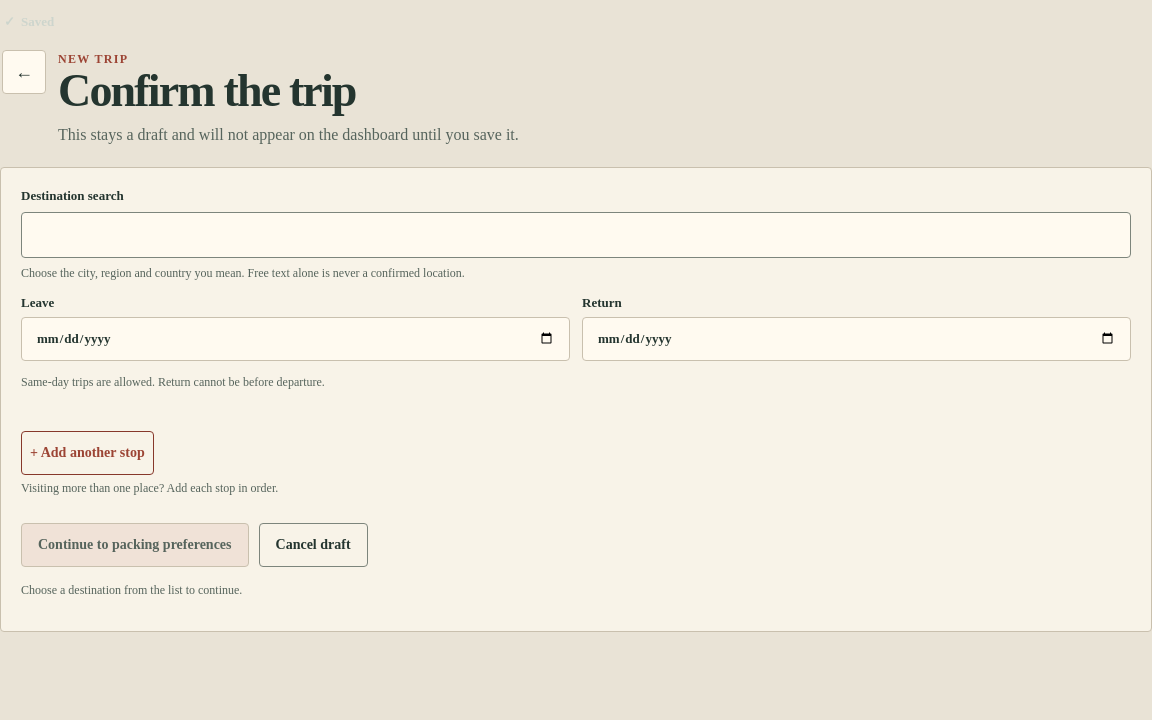
Test: trip theme › appears only once a destination is confirmed, after the dates, with Travel selected
Expected: the element "Trip theme" is not shown
Type "lisbon" into the dropdown labelled "Destination search" at {"x": 576, "y": 235}, box [21,212,1131,258]
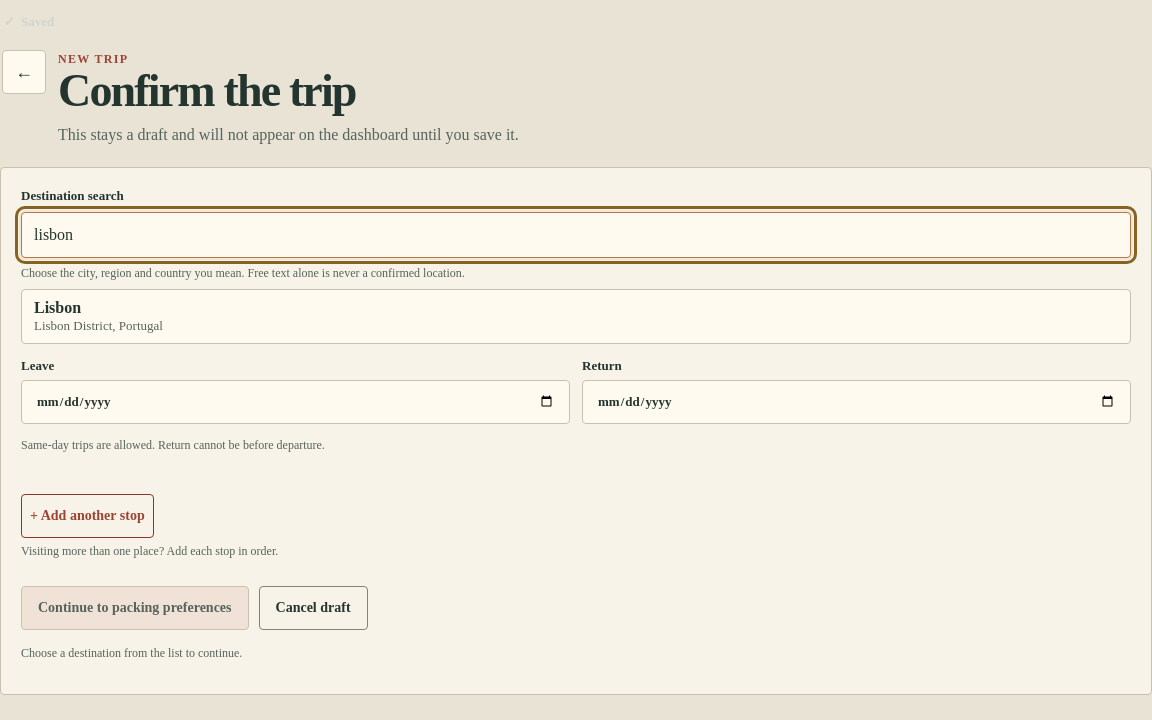
Click the option "Lisbon Lisbon District, Portugal" at {"x": 58, "y": 307}, box [21,289,1131,344]
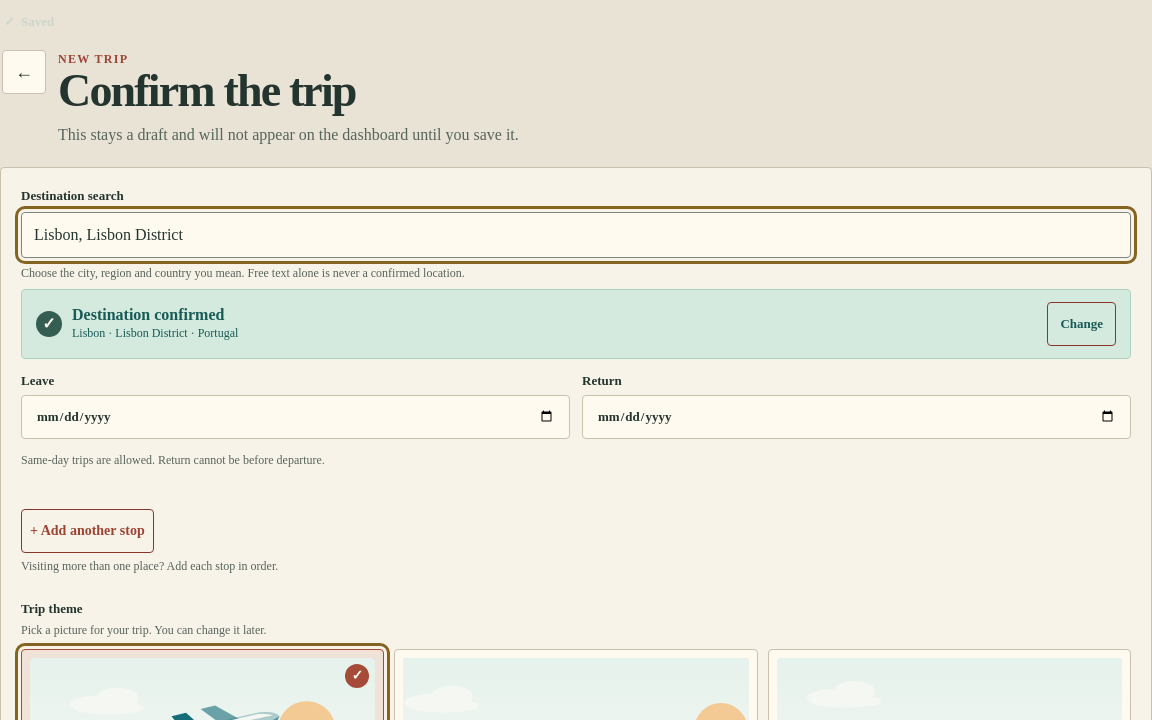
Expected: the text "Pick a picture for your trip. You can change it later." is shown, [21,623,267,637]
